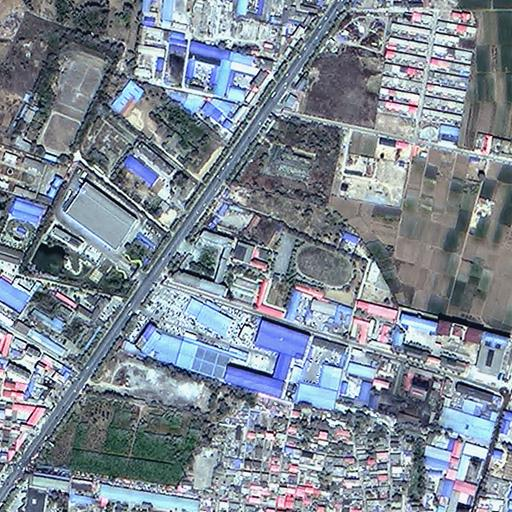school: (167, 193, 361, 298)
